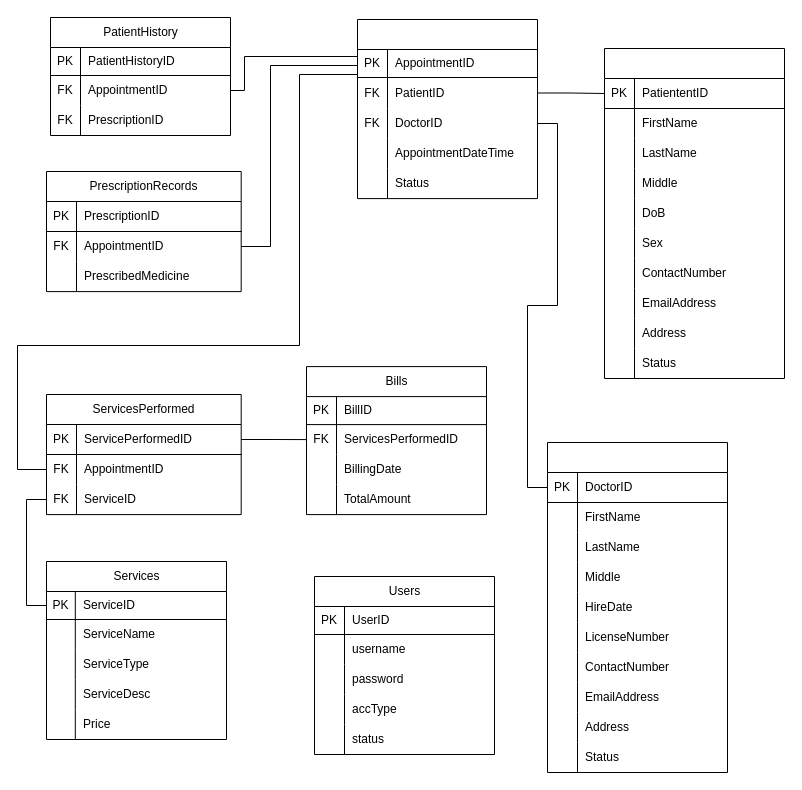
This 802x790 diagram has some shape labels left out. Each missing label, with the box of its shape:
Appointments: (356, 18, 538, 199)
Doctors: (546, 442, 728, 772)
Patients: (604, 48, 784, 378)
